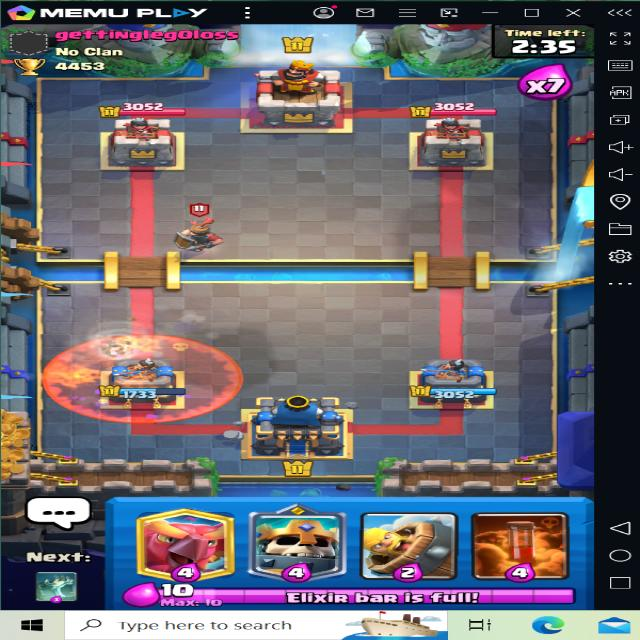Poison: (44, 328, 243, 424)
Royalrecruits: (176, 204, 230, 258)
